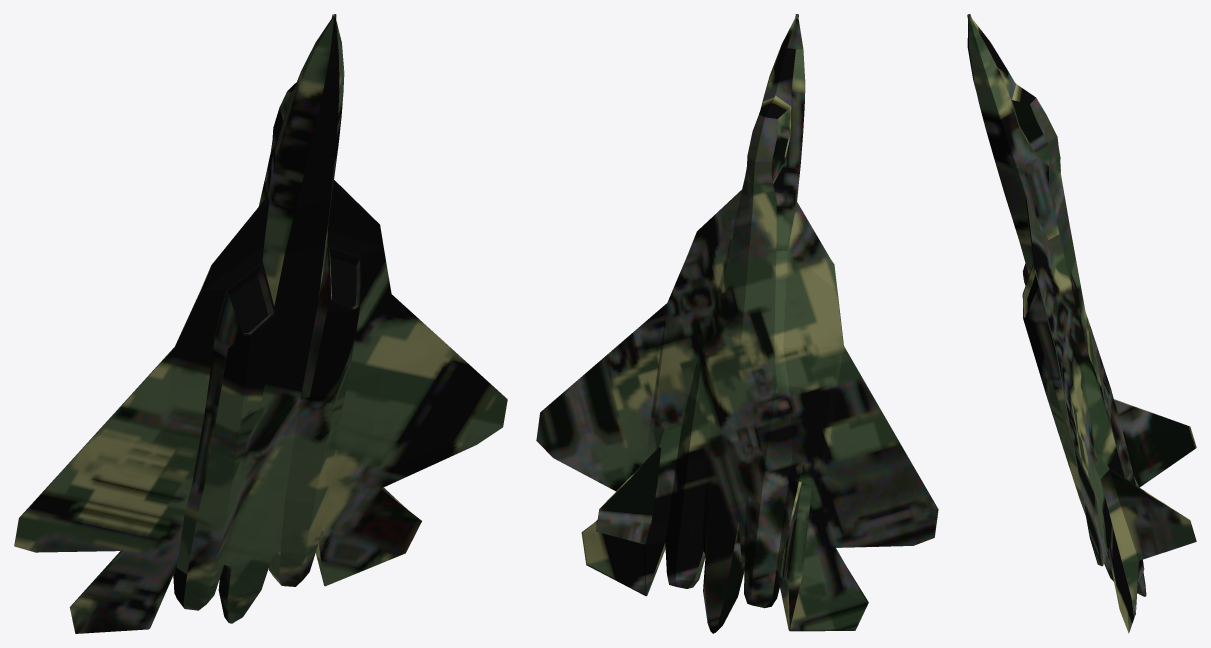
File: AirShip.fbx
3 renders of one model, left to right at view 1: azimuth 30°, elevation 25°; view 2: azimuth 150°, elevation 25°; view 3: azimuth 270°, elevation 25°, orthographic. The views are drawn at different scales.
Visible parts, largest first — view 1: Low_poly_Ship; view 2: Low_poly_Ship; view 3: Low_poly_Ship.
Part boxes in pixels (left/top/right/bottom): Low_poly_Ship: left=14, top=14, right=507, bottom=633; Low_poly_Ship: left=536, top=14, right=938, bottom=633; Low_poly_Ship: left=967, top=14, right=1196, bottom=633.
Size of the model in its own units: 675 by 323 by 904.
1 material, 1 textured.
